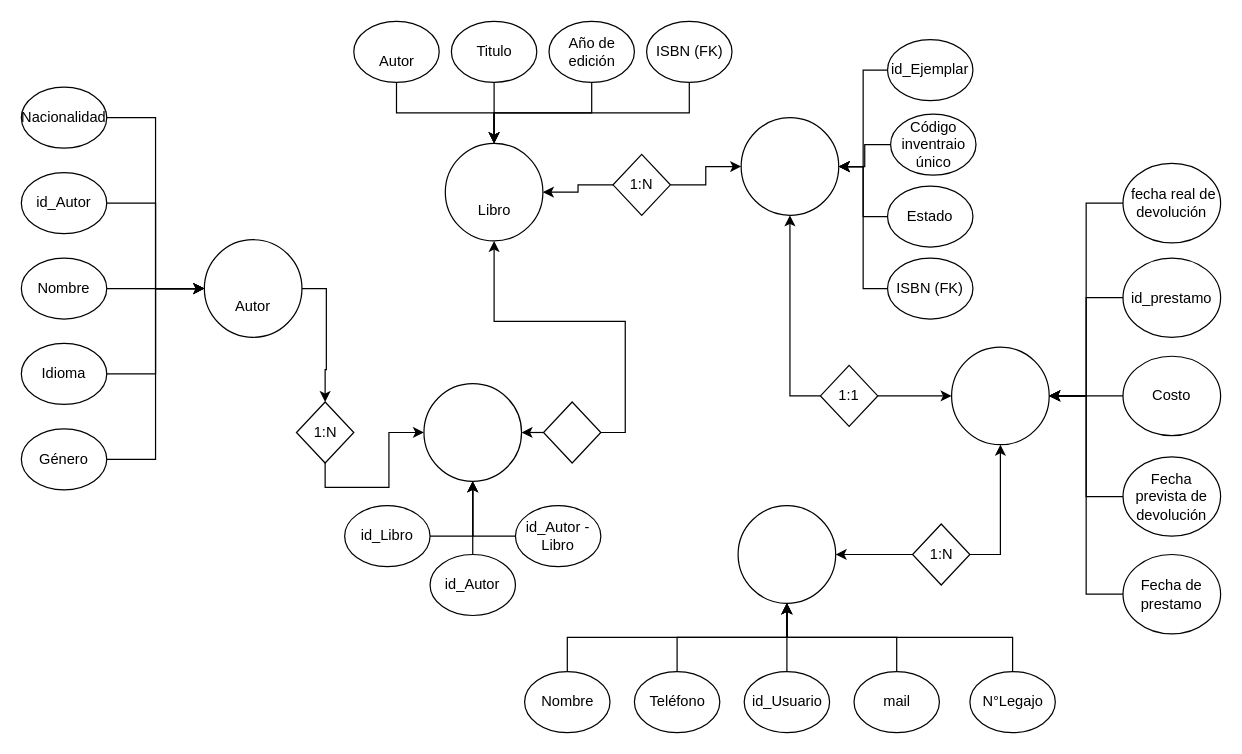
Some shapes in this 1242 by 754 pixel diagram are drawn without their labels. The shapes that lost their labels are listed below. From the top down, each one's box as (x1, y1, x2, y2) in pixels, then its label:
(740, 117, 839, 215): Ejemplar
(950, 346, 1049, 445): Prestamo
(423, 382, 522, 481): Autor - Libro
(542, 401, 601, 463): N:1
(737, 504, 836, 603): Usuario
